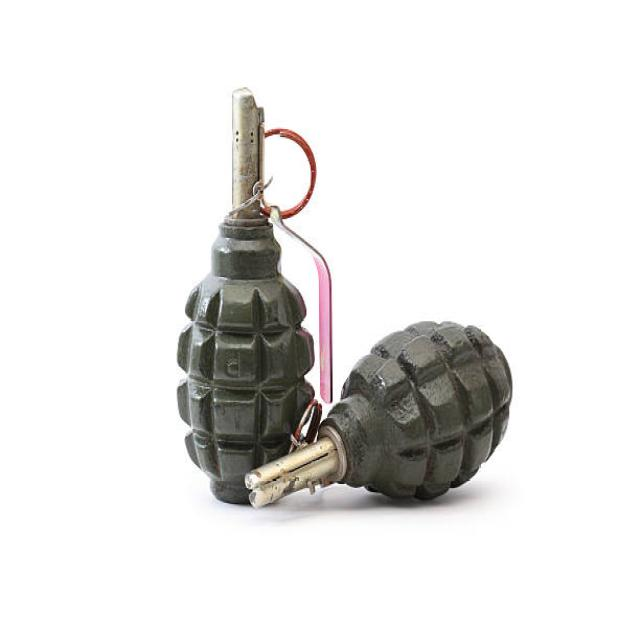grenade: (173, 78, 345, 508), (243, 315, 524, 521)
